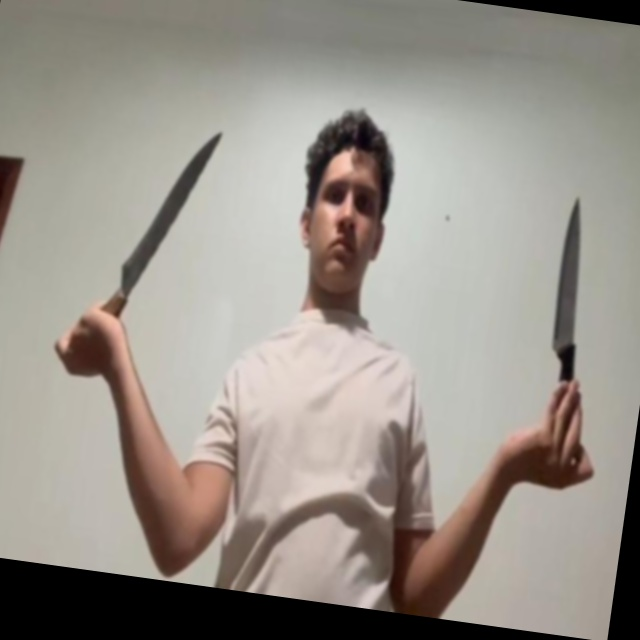Sharp-Object: (118, 122, 221, 296), (549, 194, 594, 349)
